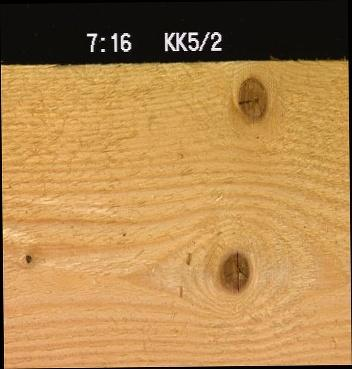dry_knot: (21, 249, 34, 265)
sound_knot: (235, 76, 267, 122), (217, 251, 253, 291)
